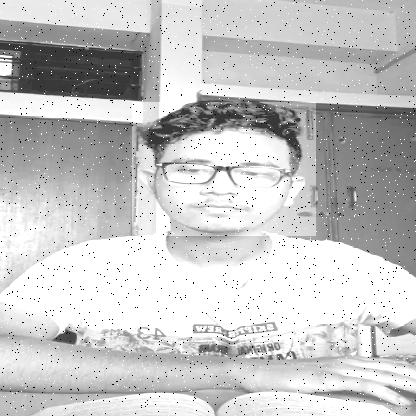Normal: (132, 102, 316, 236)
